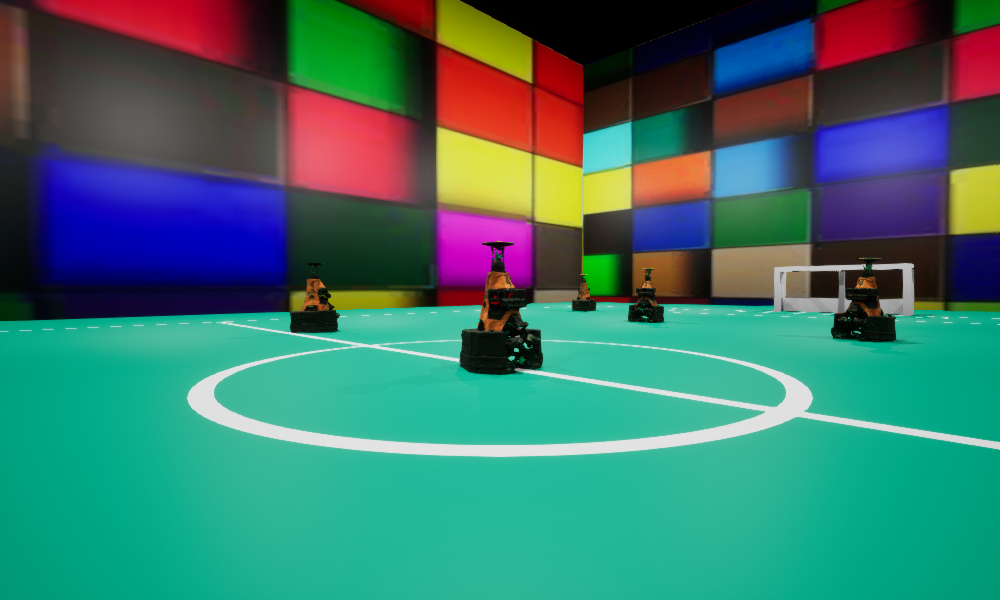o: (460, 241, 542, 374), (831, 258, 895, 341), (290, 263, 339, 332), (628, 268, 663, 321), (572, 274, 595, 311)
